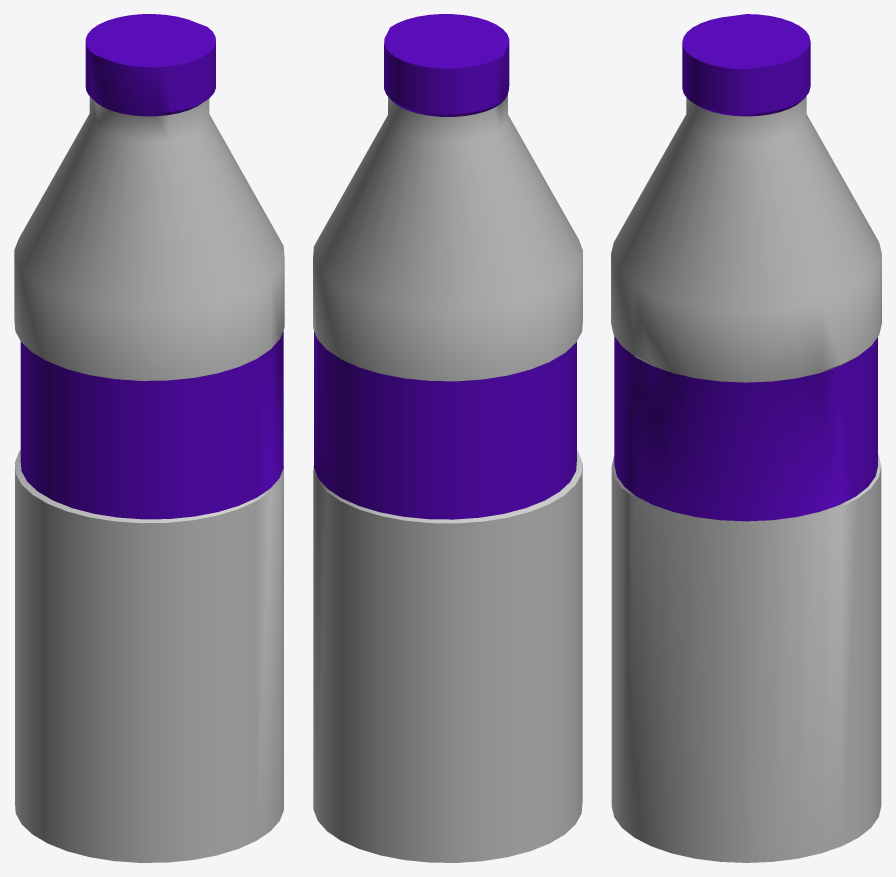
The model's file is botella.fbx.
3 views of the same model, side by side, from view 1: azimuth 30°, elevation 25°; view 2: azimuth 150°, elevation 25°; view 3: azimuth 270°, elevation 25° (orthographic).
Parts seen in each view (by area): view 1: Cilindro.002 (×2); view 2: Cilindro.002 (×2); view 3: Cilindro.002 (×2).
Part boxes in pixels (bbox=[...]): Cilindro.002 (×2): bbox=[14, 14, 284, 862]; Cilindro.002 (×2): bbox=[313, 14, 582, 862]; Cilindro.002 (×2): bbox=[611, 14, 881, 862].
Size of the model in its own units: 93.84 by 293 by 93.84.
